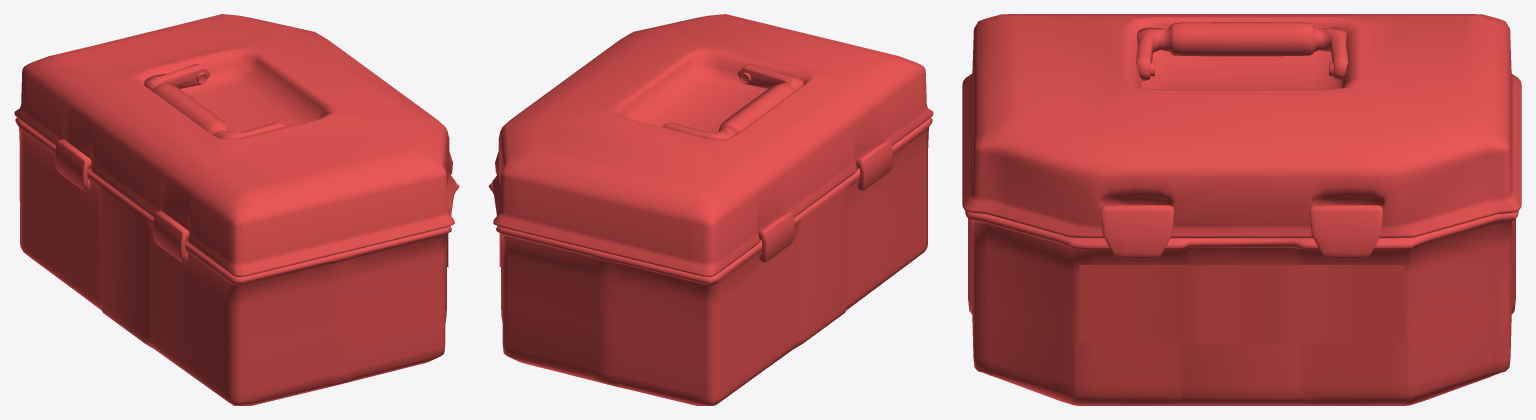
File: TackleBox_low.fbx
3 views of the same model, side by side, from view 1: azimuth 30°, elevation 25°; view 2: azimuth 150°, elevation 25°; view 3: azimuth 270°, elevation 25° (orthographic). The views are drawn at different scales.
Visible parts, largest first — view 1: Box_lid_low, Box_base_low, Lid_Handle_low, Box_extraparts_low; view 2: Box_lid_low, Box_base_low, Lid_Handle_low, Box_extraparts_low; view 3: Box_lid_low, Box_base_low, Box_label_low, Lid_Handle_low, Box_extraparts_low.
Boxes of the visible parts, x1=… form: Box_lid_low: x1=14, y1=14, x2=455, y2=277; Box_base_low: x1=15, y1=117, x2=459, y2=405; Lid_Handle_low: x1=144, y1=64, x2=284, y2=139; Box_extraparts_low: x1=54, y1=72, x2=452, y2=262; Box_lid_low: x1=492, y1=14, x2=933, y2=277; Box_base_low: x1=488, y1=117, x2=932, y2=405; Lid_Handle_low: x1=663, y1=64, x2=803, y2=139; Box_extraparts_low: x1=495, y1=72, x2=892, y2=262; Box_lid_low: x1=962, y1=14, x2=1521, y2=238; Box_base_low: x1=965, y1=211, x2=1518, y2=405; Box_label_low: x1=1079, y1=265, x2=1404, y2=343; Lid_Handle_low: x1=1136, y1=22, x2=1347, y2=80; Box_extraparts_low: x1=1100, y1=62, x2=1383, y2=258.
Size of the model in its own units: 26.28 by 19.63 by 36.4.
